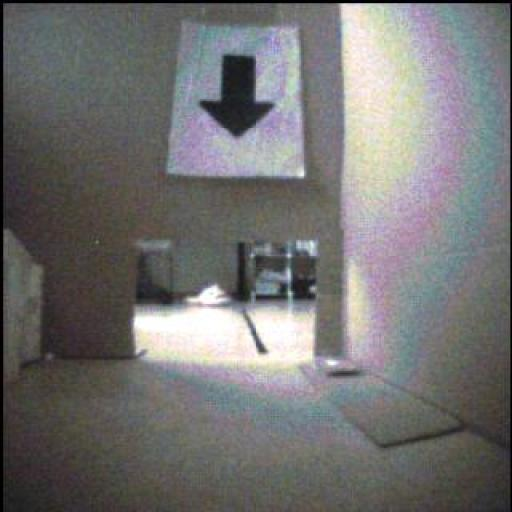arrow: (201, 56, 275, 139)
